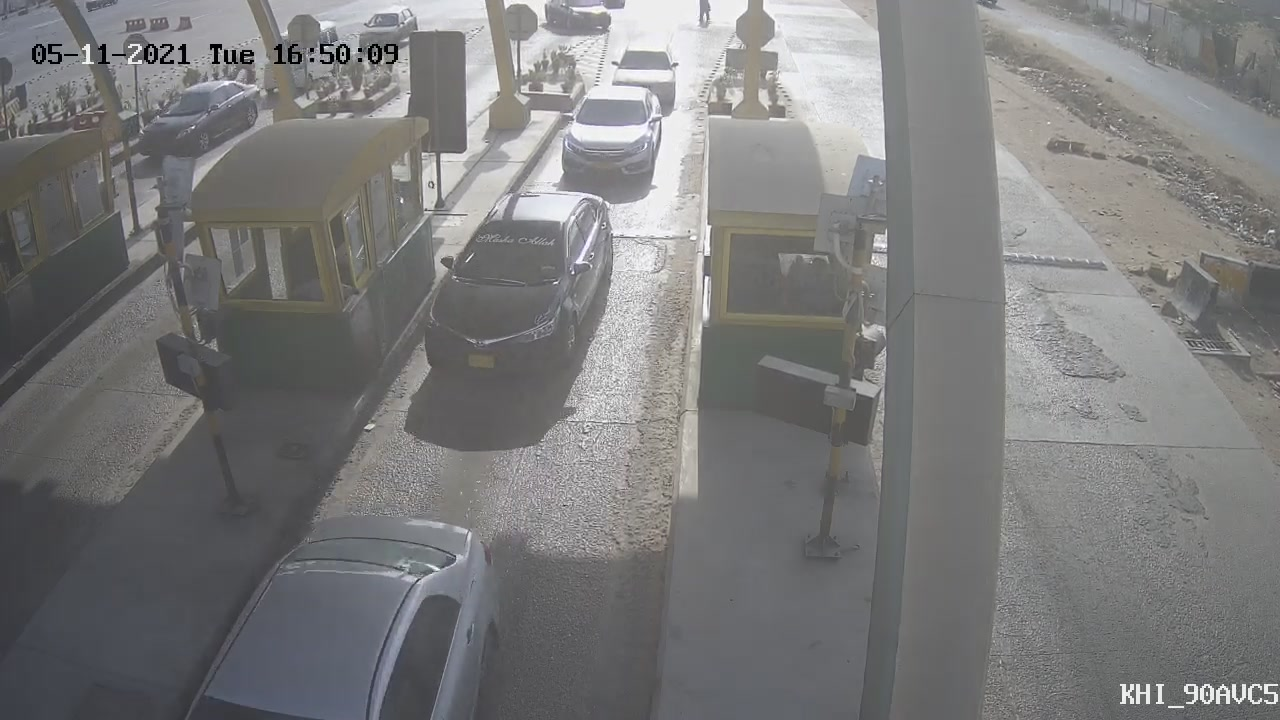F1: (404, 174, 639, 399), (543, 70, 685, 207)
